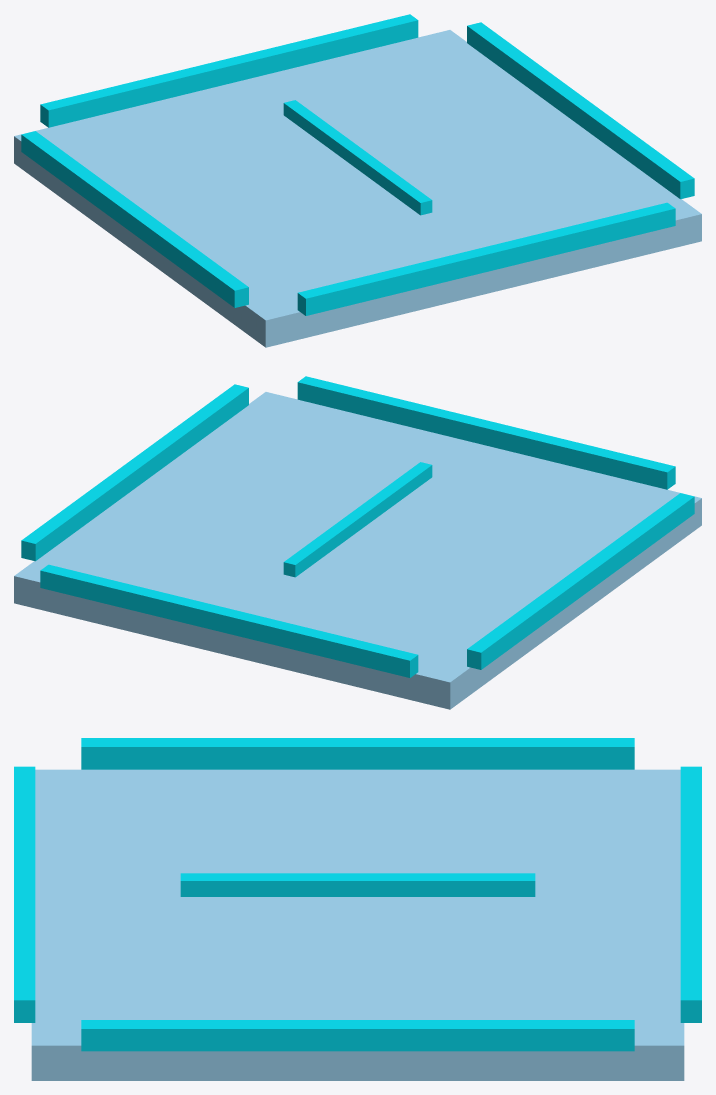
Rendered from TD_PathGhostTile.fbx.
3 renders of one model, top to bottom at view 1: azimuth 30°, elevation 25°; view 2: azimuth 150°, elevation 25°; view 3: azimuth 270°, elevation 25°, orthographic. The views are drawn at different scales.
Parts seen in each view (by area): view 1: TD_PathGhostTile_GhostPlate, TD_PathGhostTile_CyanEdge_South, TD_PathGhostTile_CyanEdge_North, TD_PathGhostTile_CyanEdge_East, TD_PathGhostTile_CyanEdge_West, TD_PathGhostTile_CenterLine; view 2: TD_PathGhostTile_GhostPlate, TD_PathGhostTile_CyanEdge_North, TD_PathGhostTile_CyanEdge_South, TD_PathGhostTile_CyanEdge_East, TD_PathGhostTile_CyanEdge_West, TD_PathGhostTile_CenterLine; view 3: TD_PathGhostTile_GhostPlate, TD_PathGhostTile_CyanEdge_East, TD_PathGhostTile_CyanEdge_West, TD_PathGhostTile_CenterLine, TD_PathGhostTile_CyanEdge_North, TD_PathGhostTile_CyanEdge_South.
Part boxes in pixels (x1,y1,x2,y2): TD_PathGhostTile_GhostPlate: (14,30,701,347); TD_PathGhostTile_CyanEdge_South: (297,202,675,315); TD_PathGhostTile_CyanEdge_North: (40,14,418,127); TD_PathGhostTile_CyanEdge_East: (467,22,694,199); TD_PathGhostTile_CyanEdge_West: (21,131,248,307); TD_PathGhostTile_CenterLine: (283,100,432,215); TD_PathGhostTile_GhostPlate: (14,392,701,709); TD_PathGhostTile_CyanEdge_North: (40,564,418,677); TD_PathGhostTile_CyanEdge_South: (297,376,675,489); TD_PathGhostTile_CyanEdge_East: (21,384,248,561); TD_PathGhostTile_CyanEdge_West: (467,493,694,669); TD_PathGhostTile_CenterLine: (283,462,432,577); TD_PathGhostTile_GhostPlate: (31,769,684,1080); TD_PathGhostTile_CyanEdge_East: (81,1020,634,1051); TD_PathGhostTile_CyanEdge_West: (81,738,634,769); TD_PathGhostTile_CenterLine: (180,873,535,896); TD_PathGhostTile_CyanEdge_North: (680,766,701,1022); TD_PathGhostTile_CyanEdge_South: (14,766,35,1022).
Size of the model in its own units: 97 by 10.25 by 97.
